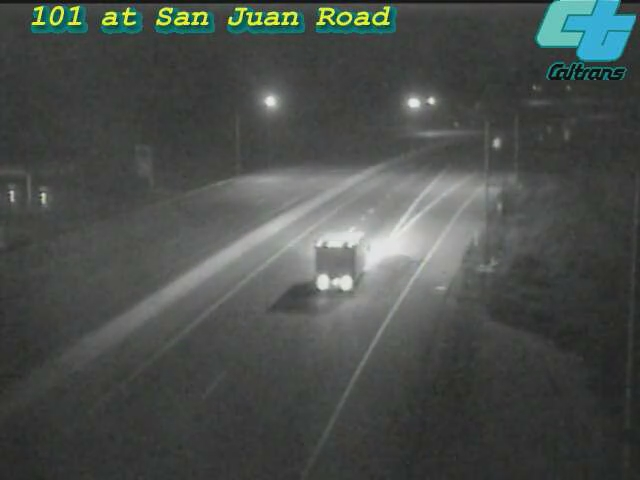vehicle: (292, 232, 372, 312)
